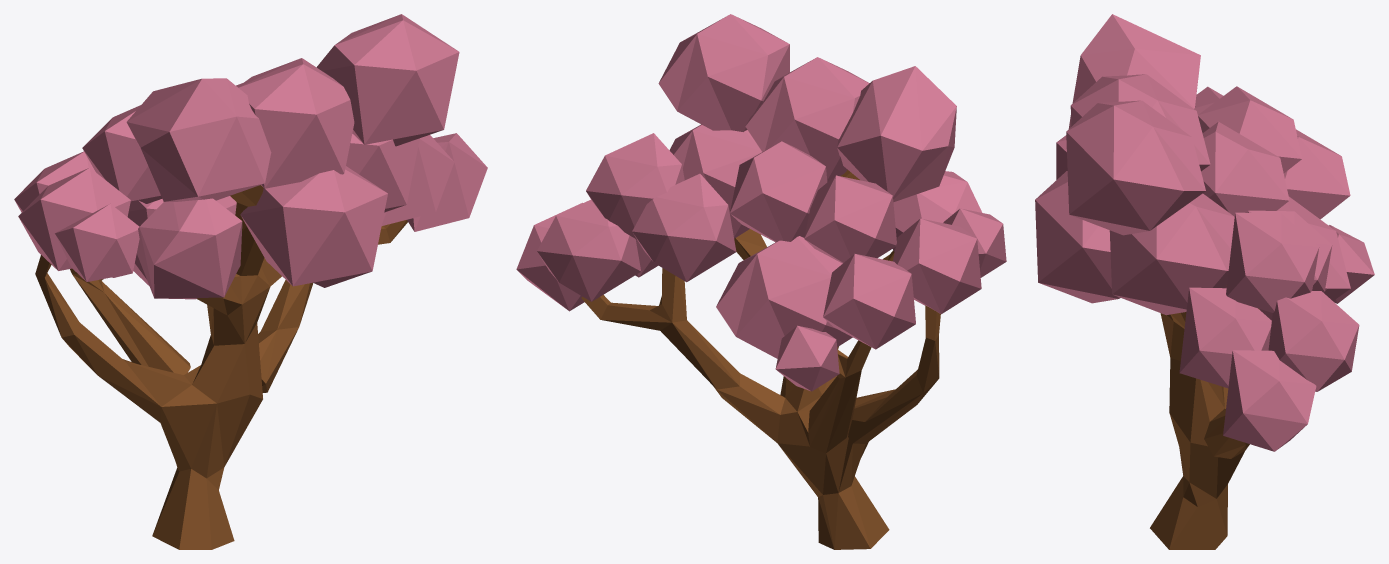
The model's file is LowpolyTrees01.fbx.
3 renders of one model, left to right at view 1: azimuth 30°, elevation 25°; view 2: azimuth 150°, elevation 25°; view 3: azimuth 270°, elevation 25°, orthographic. The views are drawn at different scales.
Visible parts, largest first — view 1: Tree01; view 2: Tree01; view 3: Tree01.
Boxes of the visible parts, x1=… form: Tree01: x1=14, y1=14, x2=487, y2=549; Tree01: x1=516, y1=14, x2=1006, y2=549; Tree01: x1=1035, y1=14, x2=1374, y2=549.
Size of what is drawn, in the model's own units: 529 by 551 by 328.
